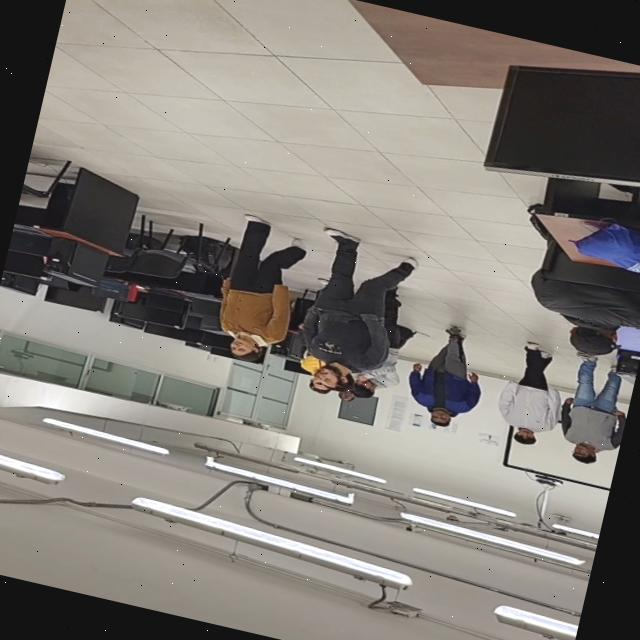Persona: (296, 258, 397, 396), (210, 234, 312, 369), (552, 370, 634, 470), (492, 354, 572, 456), (413, 333, 487, 436)
